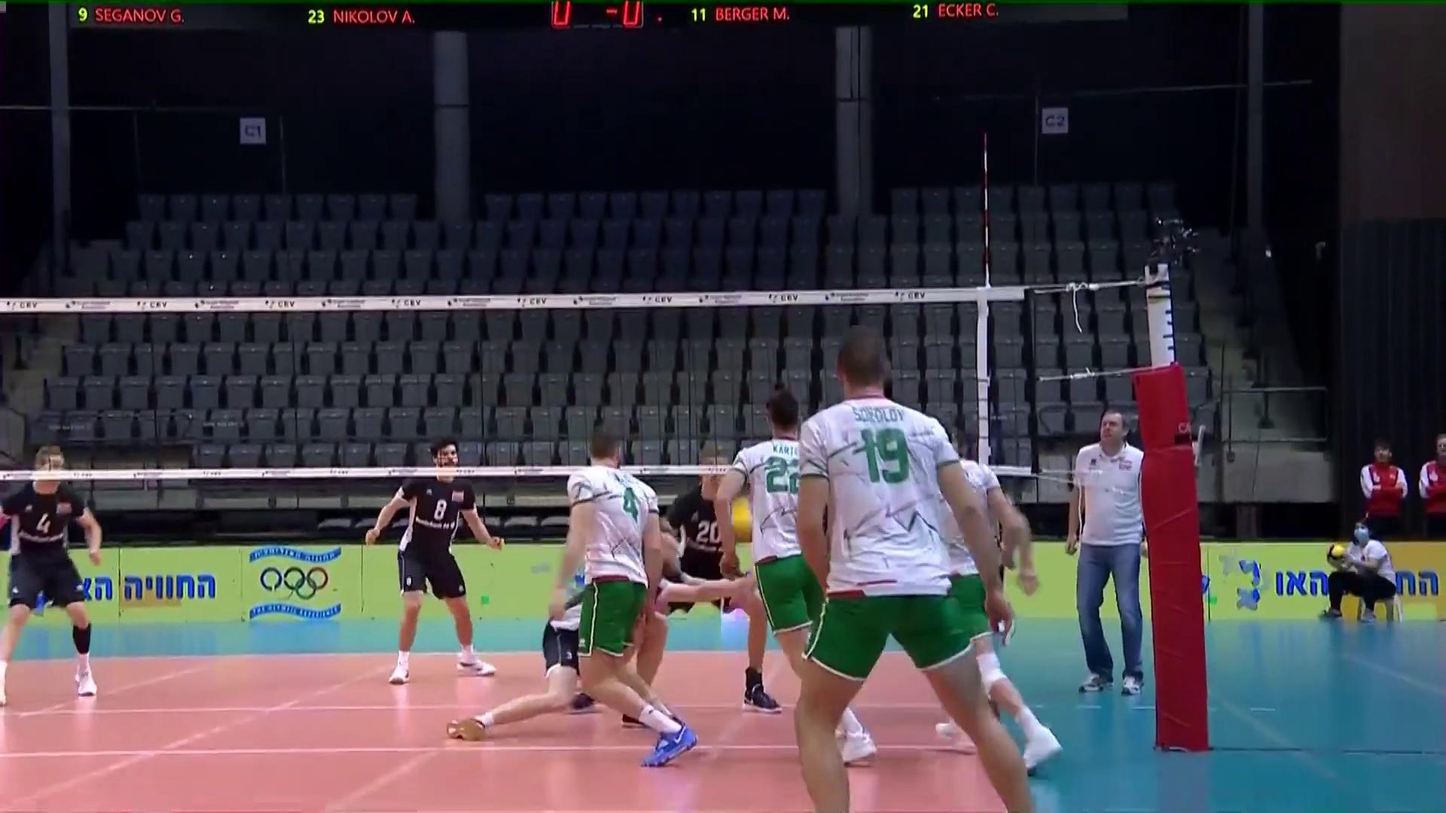ball: (727, 495, 754, 545)
